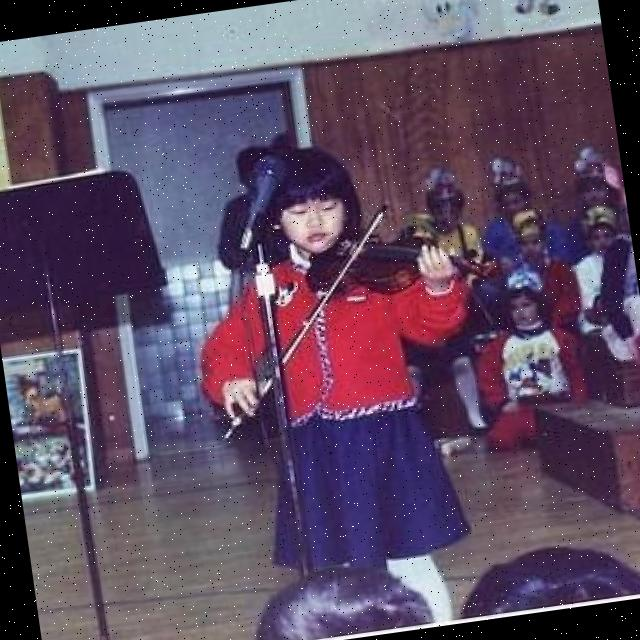violin: (301, 210, 504, 310)
